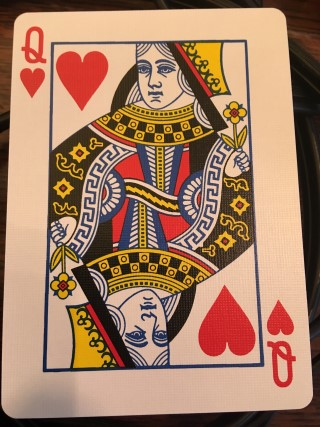QueenOfHearts: (1, 8, 313, 418)
